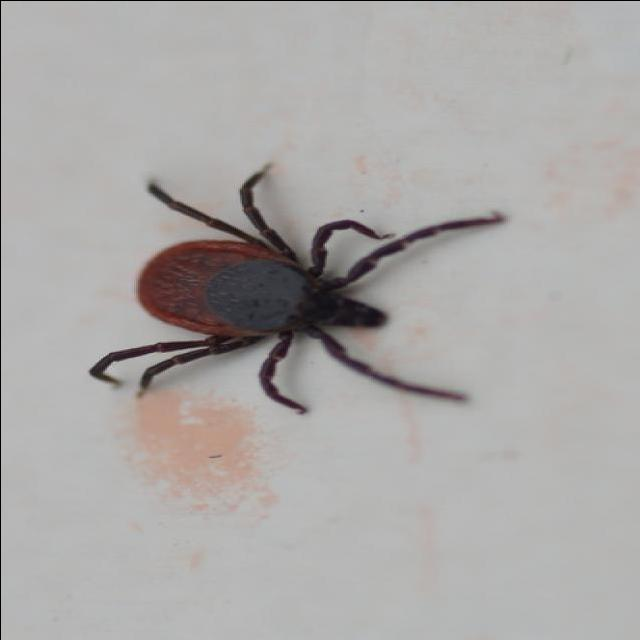Ixodes Ricinus-F: (87, 161, 505, 412)
